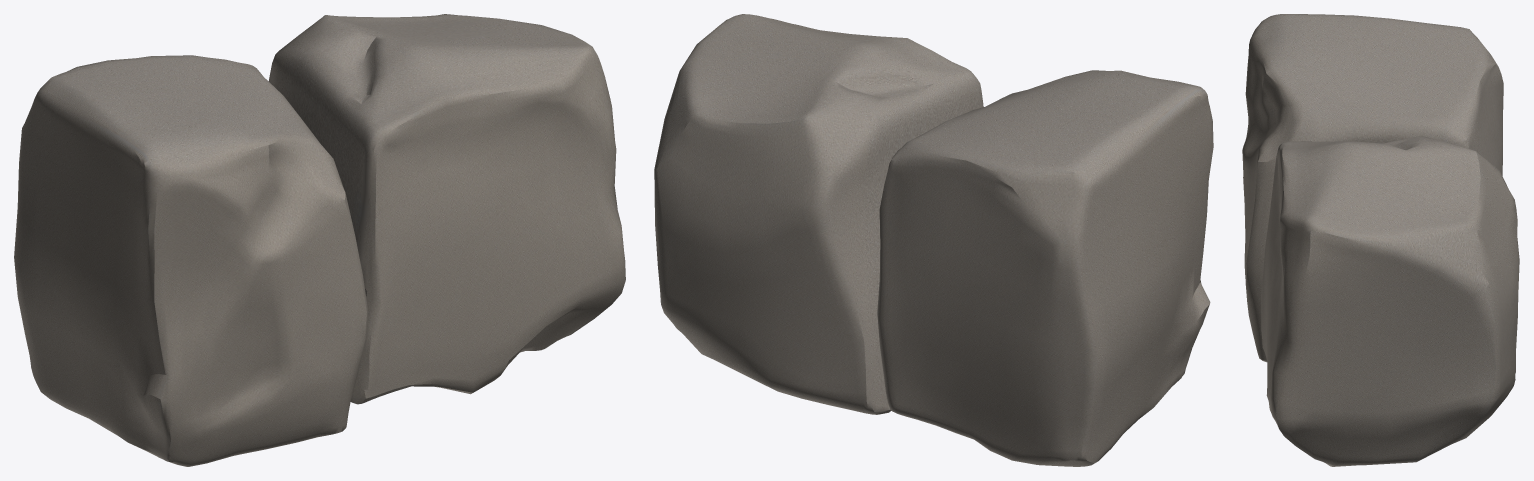
Rendered from brick_half_granite.glb.
3 renders of one model, left to right at view 1: azimuth 30°, elevation 25°; view 2: azimuth 150°, elevation 25°; view 3: azimuth 270°, elevation 25°, orthographic. The views are drawn at different scales.
Visible parts, largest first — view 1: Mesh_0; view 2: Mesh_0; view 3: Mesh_0.
Boxes of the visible parts, box(x1,y1,x2,y2) form: Mesh_0: box(14, 14, 625, 466); Mesh_0: box(654, 14, 1213, 466); Mesh_0: box(1242, 14, 1519, 466).
Size of the model in its own units: 1.9 by 1.21 by 1.08.
1 material, 1 textured.
